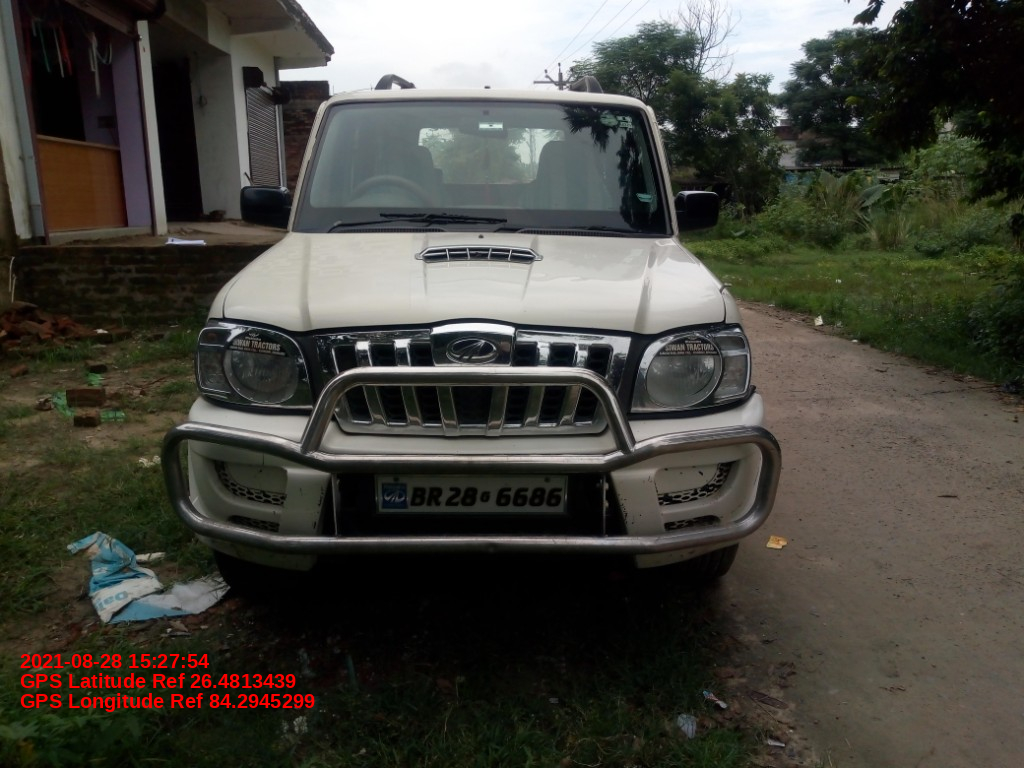Cracked: (259, 451, 271, 480)
Scratched: (613, 494, 651, 530), (661, 462, 716, 482), (639, 470, 657, 487), (315, 483, 325, 510), (309, 517, 321, 535), (268, 507, 284, 520)
